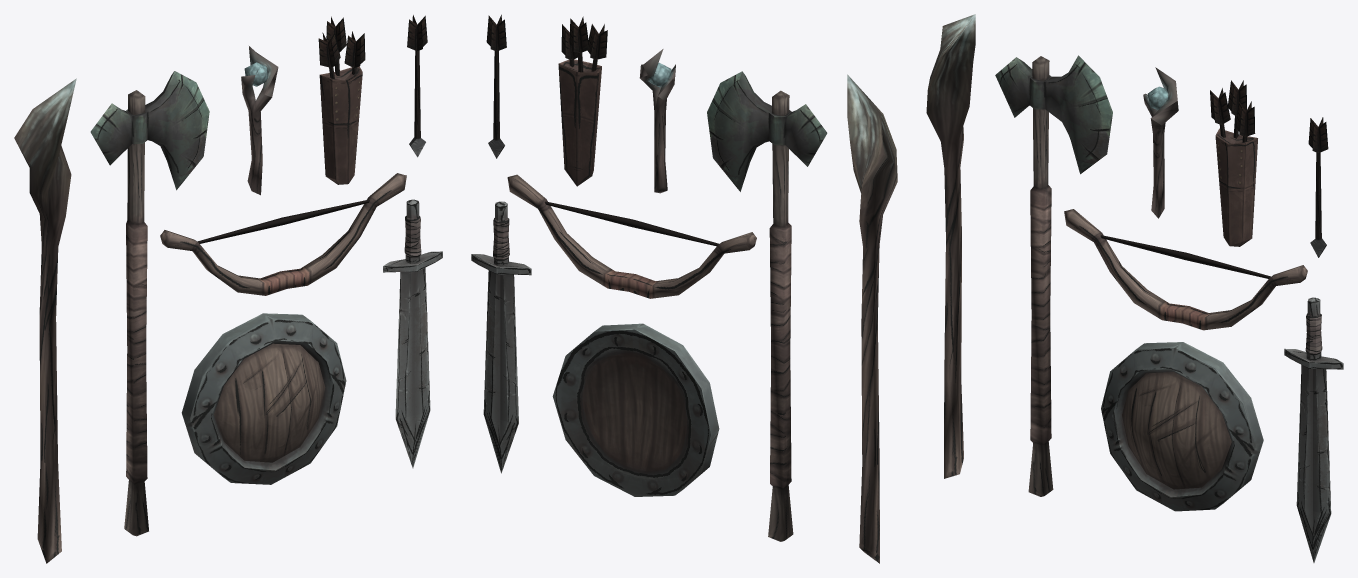
File: 4scfb.FBX
The picture shows the model from 3 angles, left to right: view 1: azimuth 30°, elevation 25°; view 2: azimuth 150°, elevation 25°; view 3: azimuth 330°, elevation 25°; orthographic projection. The views are drawn at different scales.
Parts seen in each view (by area): view 1: shield_test, twoHandedAxe_test, twoHandedStaff_test, oneHandedSword_test, bow_test, bow_quiver_test, stick_test, bow_arrow_test; view 2: shield_test, twoHandedAxe_test, twoHandedStaff_test, oneHandedSword_test, bow_test, bow_quiver_test, stick_test, bow_arrow_test; view 3: shield_test, twoHandedAxe_test, twoHandedStaff_test, oneHandedSword_test, bow_test, bow_quiver_test, stick_test, bow_arrow_test.
Boxes of the visible parts, box(x1,y1,x2,y2) form: shield_test: box(181, 313, 346, 484); twoHandedAxe_test: box(90, 71, 209, 536); twoHandedStaff_test: box(14, 78, 76, 563); oneHandedSword_test: box(383, 199, 442, 468); bow_test: box(160, 173, 406, 295); bow_quiver_test: box(318, 16, 365, 184); stick_test: box(241, 46, 278, 195); bow_arrow_test: box(407, 15, 427, 157); shield_test: box(552, 323, 719, 496); twoHandedAxe_test: box(707, 71, 827, 541); twoHandedStaff_test: box(847, 74, 897, 563); oneHandedSword_test: box(471, 201, 531, 473); bow_test: box(507, 174, 756, 298); bow_quiver_test: box(558, 16, 607, 186); stick_test: box(639, 49, 675, 193); bow_arrow_test: box(486, 14, 506, 158); shield_test: box(1101, 342, 1263, 511); twoHandedAxe_test: box(995, 55, 1112, 496); twoHandedStaff_test: box(926, 14, 975, 478); oneHandedSword_test: box(1284, 297, 1343, 562); bow_test: box(1064, 209, 1307, 330); bow_quiver_test: box(1210, 80, 1257, 246); stick_test: box(1143, 67, 1178, 218); bow_arrow_test: box(1308, 117, 1328, 257).
Size of the model in its own units: 102 by 111 by 12.53.
